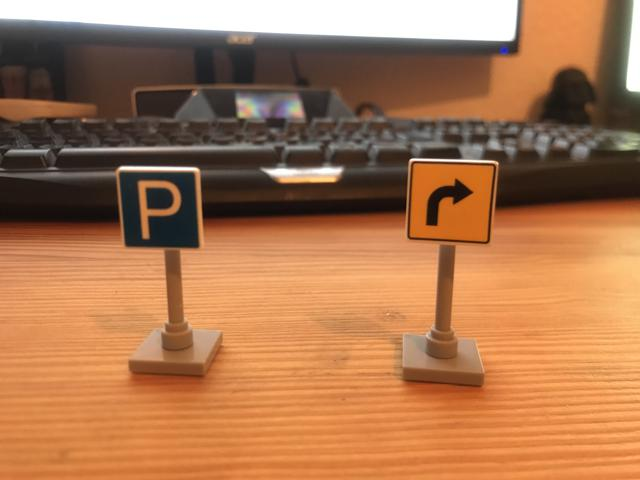fahrtrichtung rechts: (404, 157, 500, 248)
parken: (114, 164, 205, 251)
